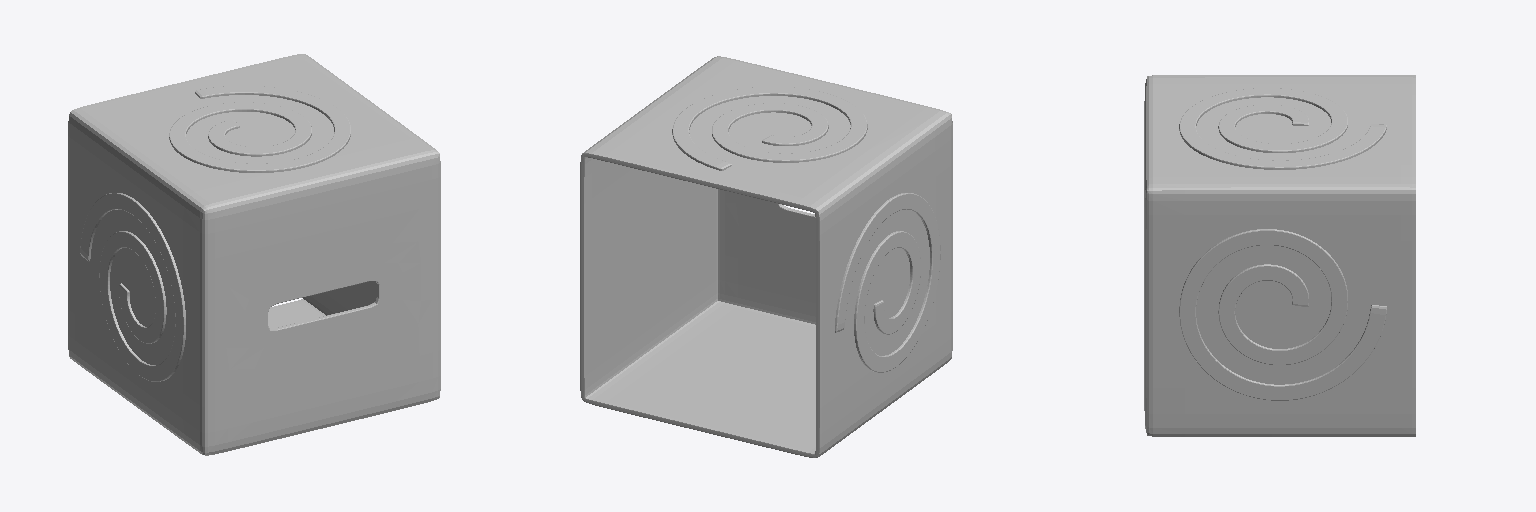
3 views of the same model, side by side, from view 1: azimuth 30°, elevation 25°; view 2: azimuth 150°, elevation 25°; view 3: azimuth 270°, elevation 25° (orthographic).
Visible parts, largest first — view 1: 20821_Cube_box_cover_v1; view 2: 20821_Cube_box_cover_v1; view 3: 20821_Cube_box_cover_v1.
Part boxes in pixels (x1,y1,x2,y2): 20821_Cube_box_cover_v1: (68, 54, 440, 455); 20821_Cube_box_cover_v1: (580, 56, 952, 457); 20821_Cube_box_cover_v1: (1144, 75, 1415, 436).
Size of the model in its own units: 13.06 by 13.06 by 12.53.